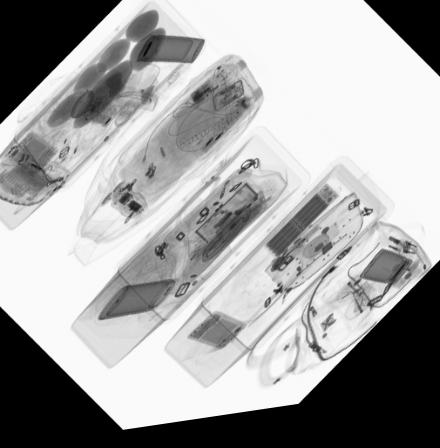Lighter: (392, 274, 414, 284)
